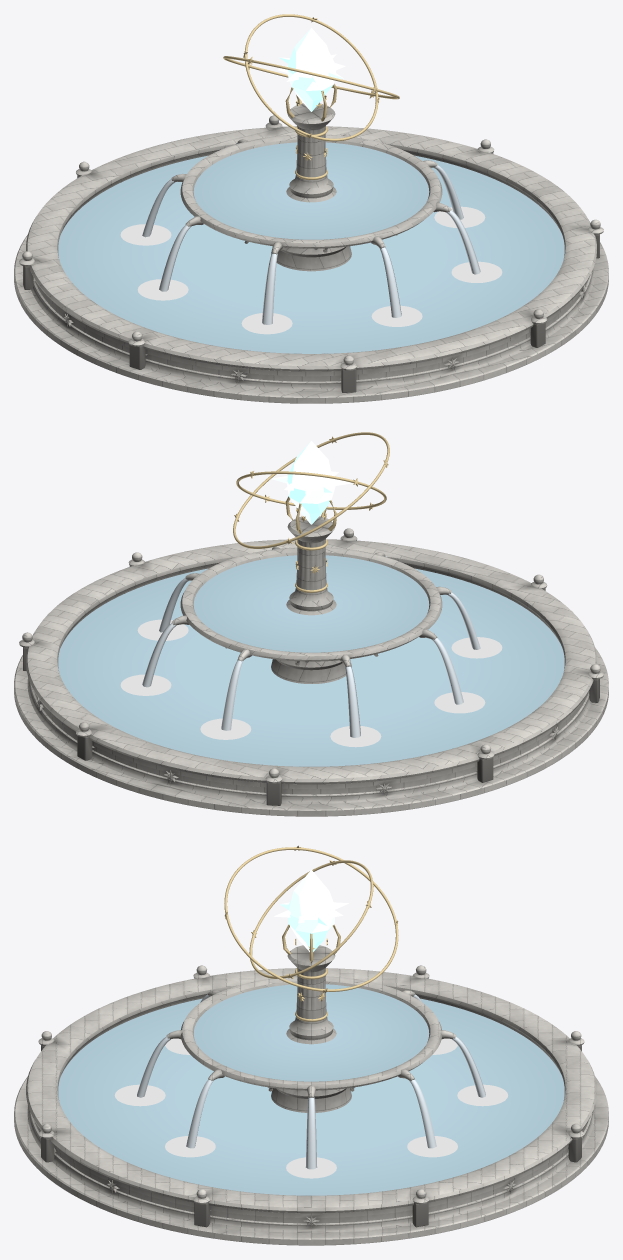
File: fountain_hq.glb
3 renders of one model, top to bottom at view 1: azimuth 30°, elevation 25°; view 2: azimuth 150°, elevation 25°; view 3: azimuth 270°, elevation 25°, orthographic.
Visible parts, largest first — view 1: WishFountain_water, WishFountain_stone, WishFountain_foam, WishFountain_falls, WishFountain_gold, WishFountain_crystal; view 2: WishFountain_water, WishFountain_stone, WishFountain_foam, WishFountain_falls, WishFountain_gold, WishFountain_crystal; view 3: WishFountain_water, WishFountain_stone, WishFountain_foam, WishFountain_gold, WishFountain_falls, WishFountain_crystal.
Part boxes in pixels (left/top/right/bottom): WishFountain_water: left=58, top=142, right=564, bottom=353; WishFountain_stone: left=14, top=103, right=608, bottom=403; WishFountain_foam: left=120, top=206, right=502, bottom=334; WishFountain_falls: left=142, top=143, right=480, bottom=324; WishFountain_gold: left=223, top=14, right=399, bottom=179; WishFountain_crystal: left=277, top=28, right=345, bottom=111; WishFountain_water: left=58, top=555, right=564, bottom=766; WishFountain_stone: left=14, top=516, right=608, bottom=816; WishFountain_foam: left=120, top=619, right=502, bottom=747; WishFountain_falls: left=142, top=556, right=480, bottom=737; WishFountain_gold: left=233, top=432, right=389, bottom=592; WishFountain_crystal: left=271, top=441, right=351, bottom=524; WishFountain_water: left=58, top=984, right=564, bottom=1195; WishFountain_stone: left=14, top=945, right=608, bottom=1245; WishFountain_foam: left=114, top=1038, right=508, bottom=1178; WishFountain_gold: left=224, top=845, right=398, bottom=1021; WishFountain_falls: left=137, top=994, right=485, bottom=1169; WishFountain_crystal: left=274, top=870, right=348, bottom=951.
Size of the model in its own units: 14 by 6.5 by 14.
Materials: 6 (1 with a texture image).
